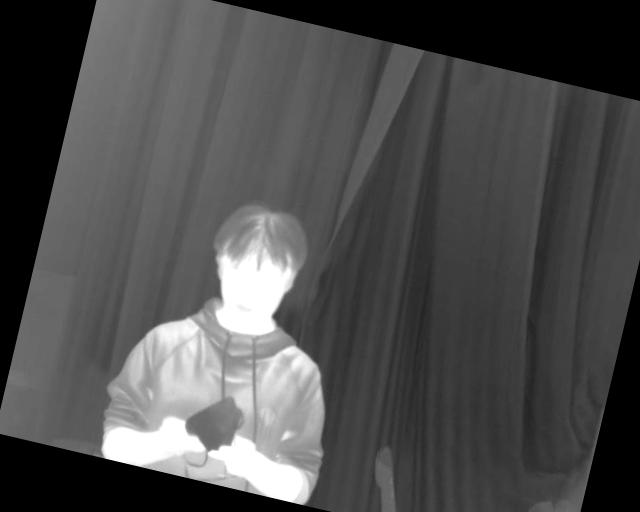face: (202, 198, 314, 334)
